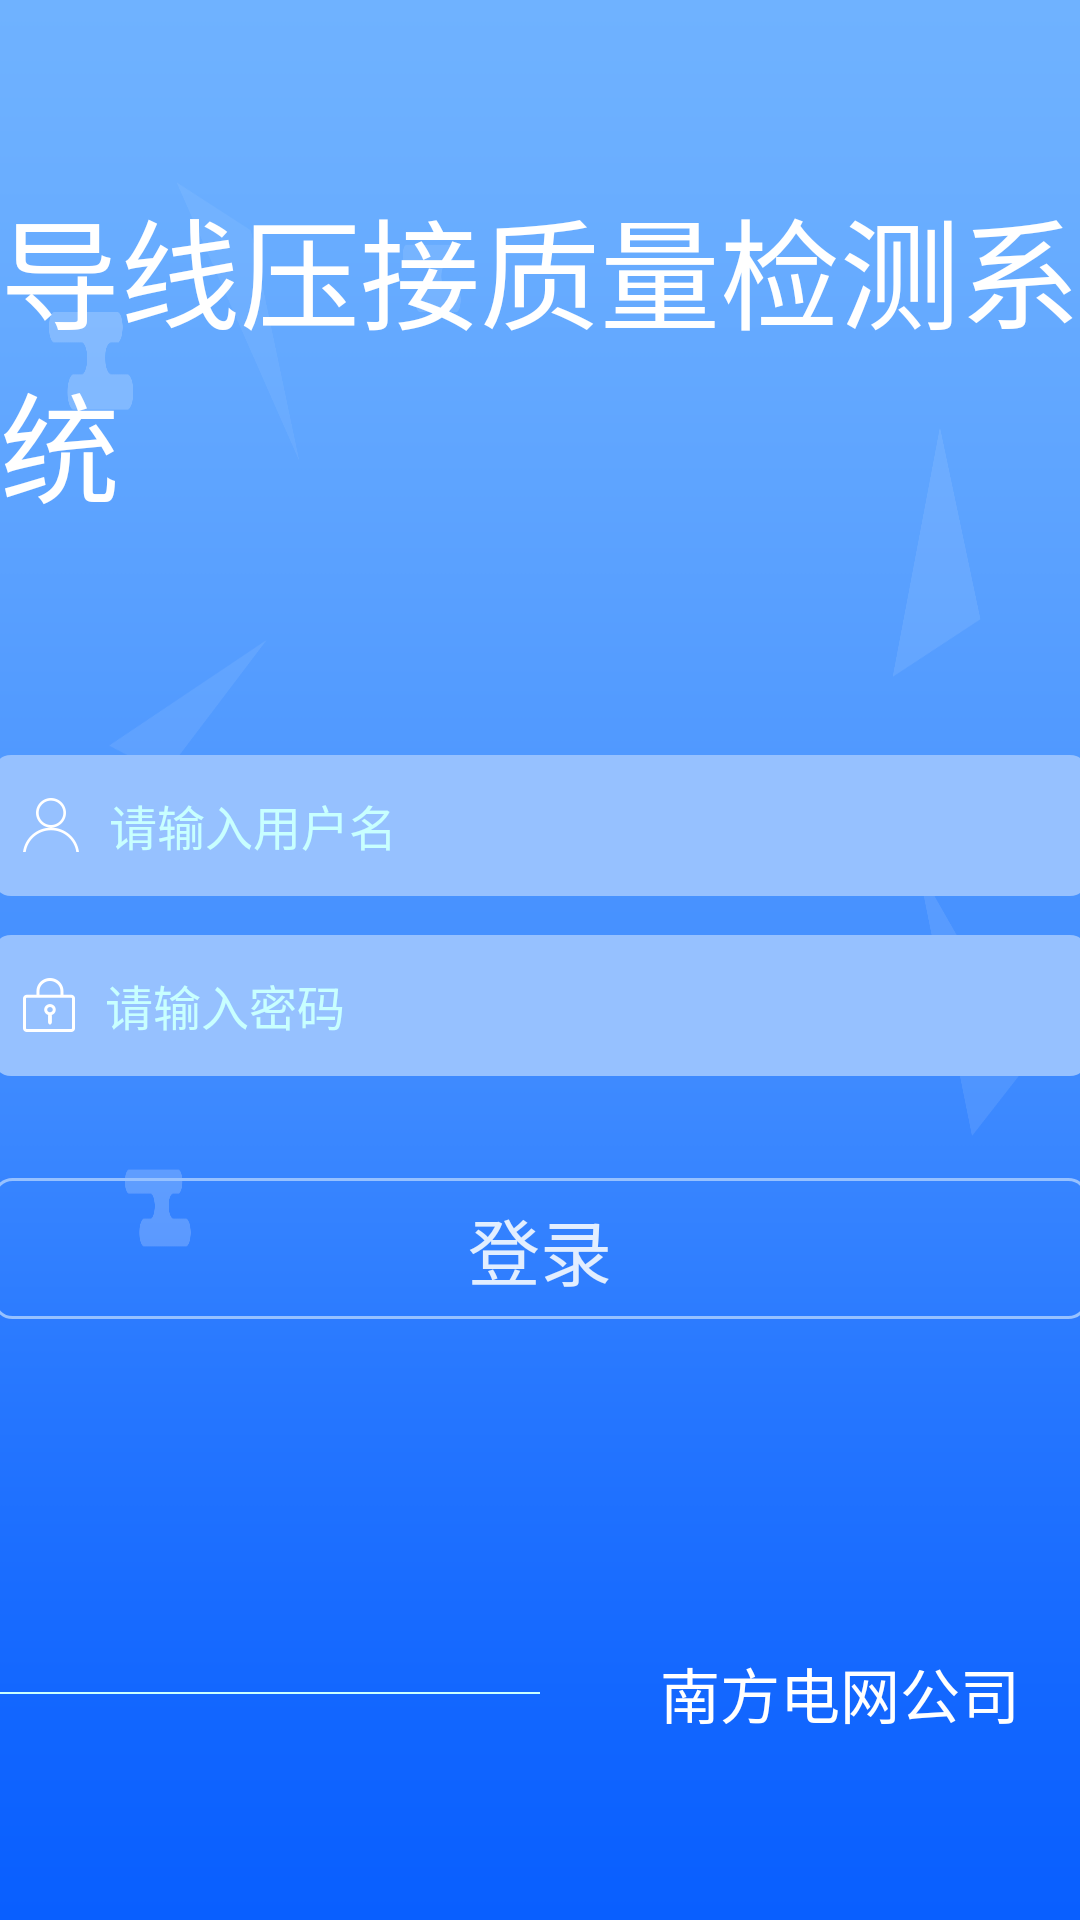

Named icons in this screenshot (1080x1920) and their centers, (x,y):
user: (51,825)
